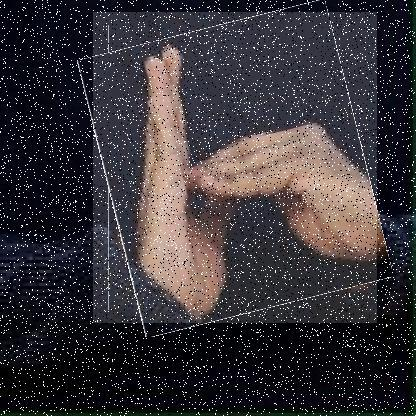Z: (93, 12, 378, 324)
